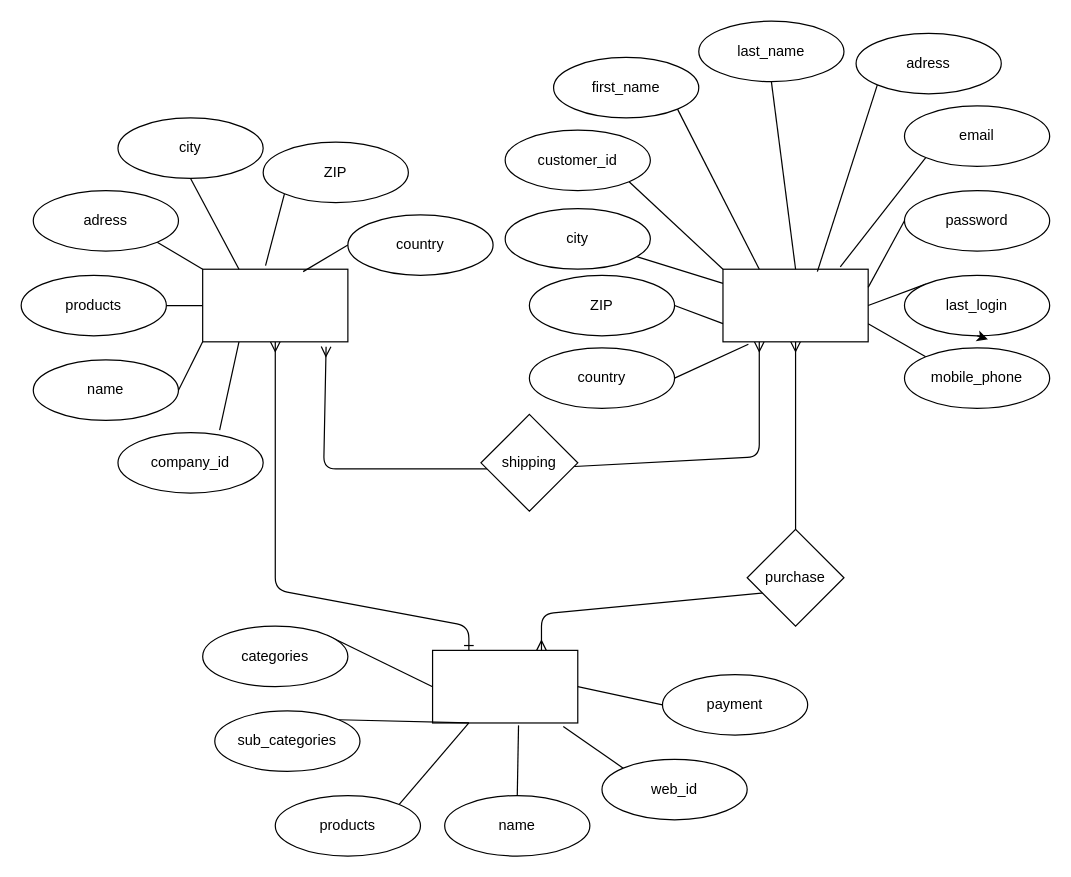
The diagram is 1071 pixels wide and 877 high, and some of its shapes have lost their labels. Each missing label, with the box of its shape:
companies: (201, 268, 348, 342)
customers: (722, 268, 868, 342)
website: (431, 649, 578, 723)
